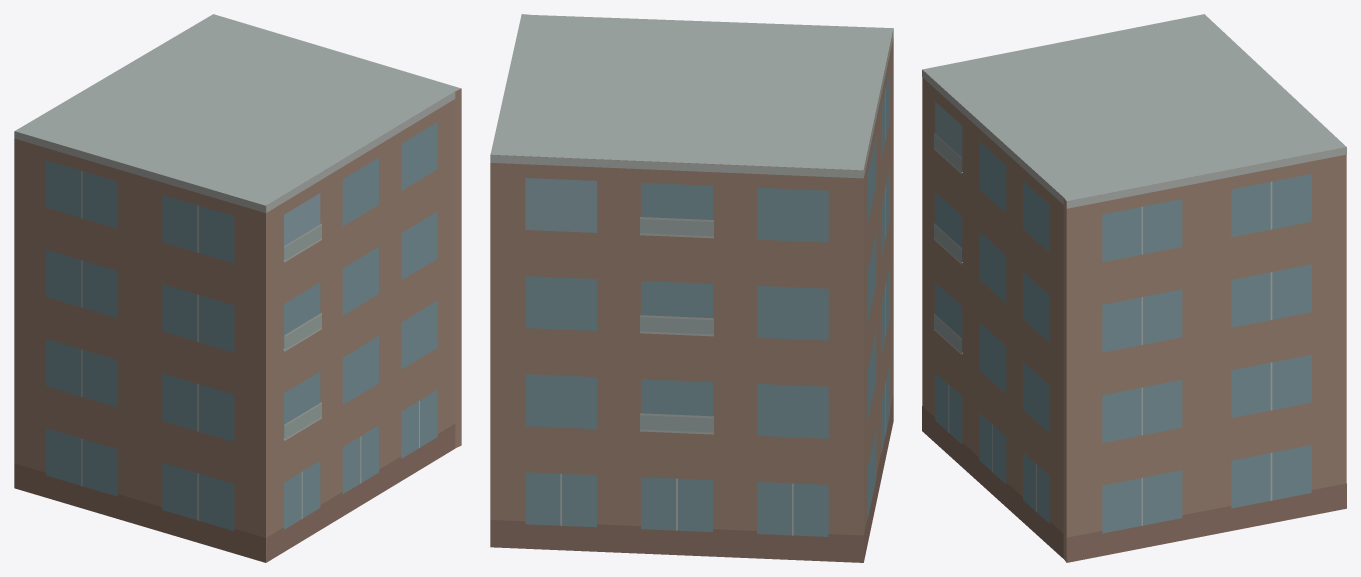
File: survey-upis-32589671.glb
3 renders of one model, left to right at view 1: azimuth 30°, elevation 25°; view 2: azimuth 150°, elevation 25°; view 3: azimuth 270°, elevation 25°, orthographic. The views are drawn at different scales.
Visible parts, largest first — view 1: survey-upis-32589671.tmp; view 2: survey-upis-32589671.tmp; view 3: survey-upis-32589671.tmp.
Part boxes in pixels (bbox=[...]): survey-upis-32589671.tmp: bbox=[14, 14, 461, 562]; survey-upis-32589671.tmp: bbox=[490, 14, 893, 562]; survey-upis-32589671.tmp: bbox=[922, 14, 1346, 562].
Size of the model in its own units: 13.12 by 11.8 by 12.57.
